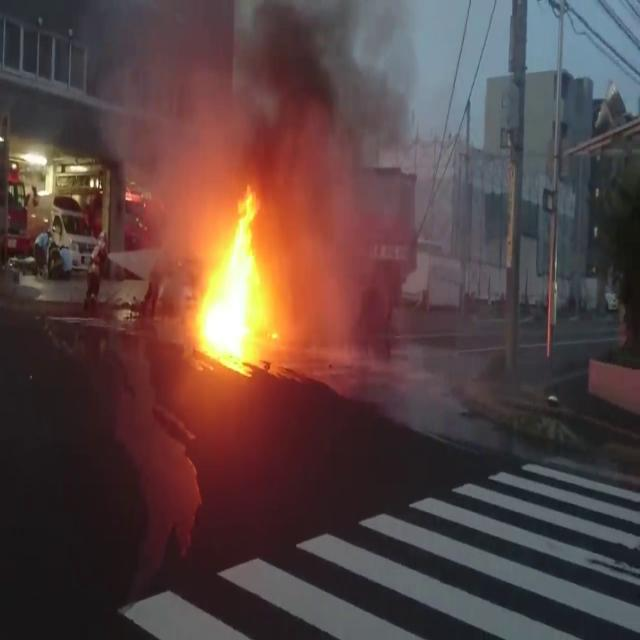Fire: (189, 191, 280, 341)
